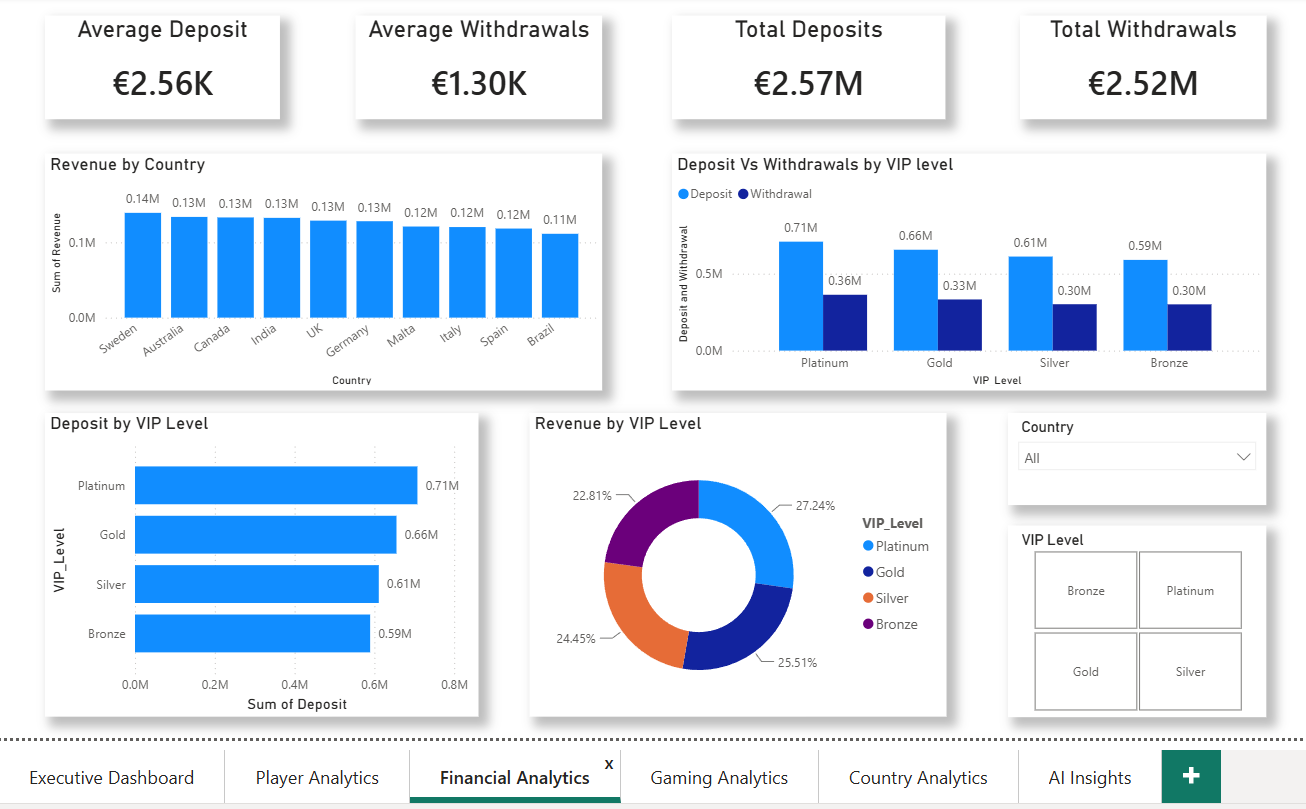

What the dashboard file says about the page in this screenshot:
{"tool":"powerbi","page":{"name":"Financial Analytics","canvas":[1280,720],"ordinal":2},"visuals":[{"type":"cardVisual","title":"Average Withdrawals","fields":{"Data":["player_details.Average Withdrawal"]},"box":[344.9,19.4,239.6,100.4],"z":0},{"type":"cardVisual","title":"Average Deposit","fields":{"Data":["player_details.Average Deposit"]},"box":[43.7,19.4,228.3,100.4],"z":1000},{"type":"clusteredBarChart","title":"Deposit by VIP Level","fields":{"Category":["player_details.VIP_Level"],"Y":["Sum(player_details.Deposit)"]},"box":[43.7,404.8,421,294.7],"z":2000},{"type":"clusteredColumnChart","title":"Revenue by Country","fields":{"Category":["player_details.Country"],"Y":["Sum(player_details.Revenue)"]},"box":[43.7,152.2,540.8,229.9],"z":3000},{"type":"clusteredColumnChart","title":"Deposit Vs Withdrawals by VIP level","fields":{"Category":["player_details.VIP_Level"],"Y":["Sum(player_details.Deposit)","Sum(player_details.Withdrawal)"]},"box":[652.5,152.2,576.4,229.9],"z":4000},{"type":"donutChart","title":"Revenue by VIP Level","fields":{"Category":["player_details.VIP_Level"],"Y":["Sum(player_details.Revenue)"]},"box":[513.3,404.8,404.8,294.7],"z":5000},{"type":"slicer","fields":{"Values":["player_details.Country"]},"box":[978,404.8,251,89.1],"z":6000},{"type":"slicer","fields":{"Values":["player_details.VIP_Level"]},"box":[978,513.3,251,186.2],"z":7000},{"type":"cardVisual","title":"Total Withdrawals","fields":{"Data":["kpi_summary.Total Withdrawals"]},"box":[989.3,19.4,239.6,100.4],"z":8000},{"type":"cardVisual","title":"Total Deposits","fields":{"Data":["kpi_summary.Total Deposits"]},"box":[652.5,19.4,265.6,100.4],"z":9000}]}

Visuals, with their boxes on the page's 1280x720 design canvas (x1, y1, x2, y2). These are canvas units, not pixel positions in the 1306x809 screenshot, which may show the page scaled, cropped or inside an application window:
"Average Withdrawals" cardVisual: (345, 19, 584, 120)
"Average Deposit" cardVisual: (44, 19, 272, 120)
"Deposit by VIP Level" clusteredBarChart: (44, 405, 465, 700)
"Revenue by Country" clusteredColumnChart: (44, 152, 584, 382)
"Deposit Vs Withdrawals by VIP level" clusteredColumnChart: (652, 152, 1229, 382)
"Revenue by VIP Level" donutChart: (513, 405, 918, 700)
slicer - player_details.Country: (978, 405, 1229, 494)
slicer - player_details.VIP_Level: (978, 513, 1229, 700)
"Total Withdrawals" cardVisual: (989, 19, 1229, 120)
"Total Deposits" cardVisual: (652, 19, 918, 120)
